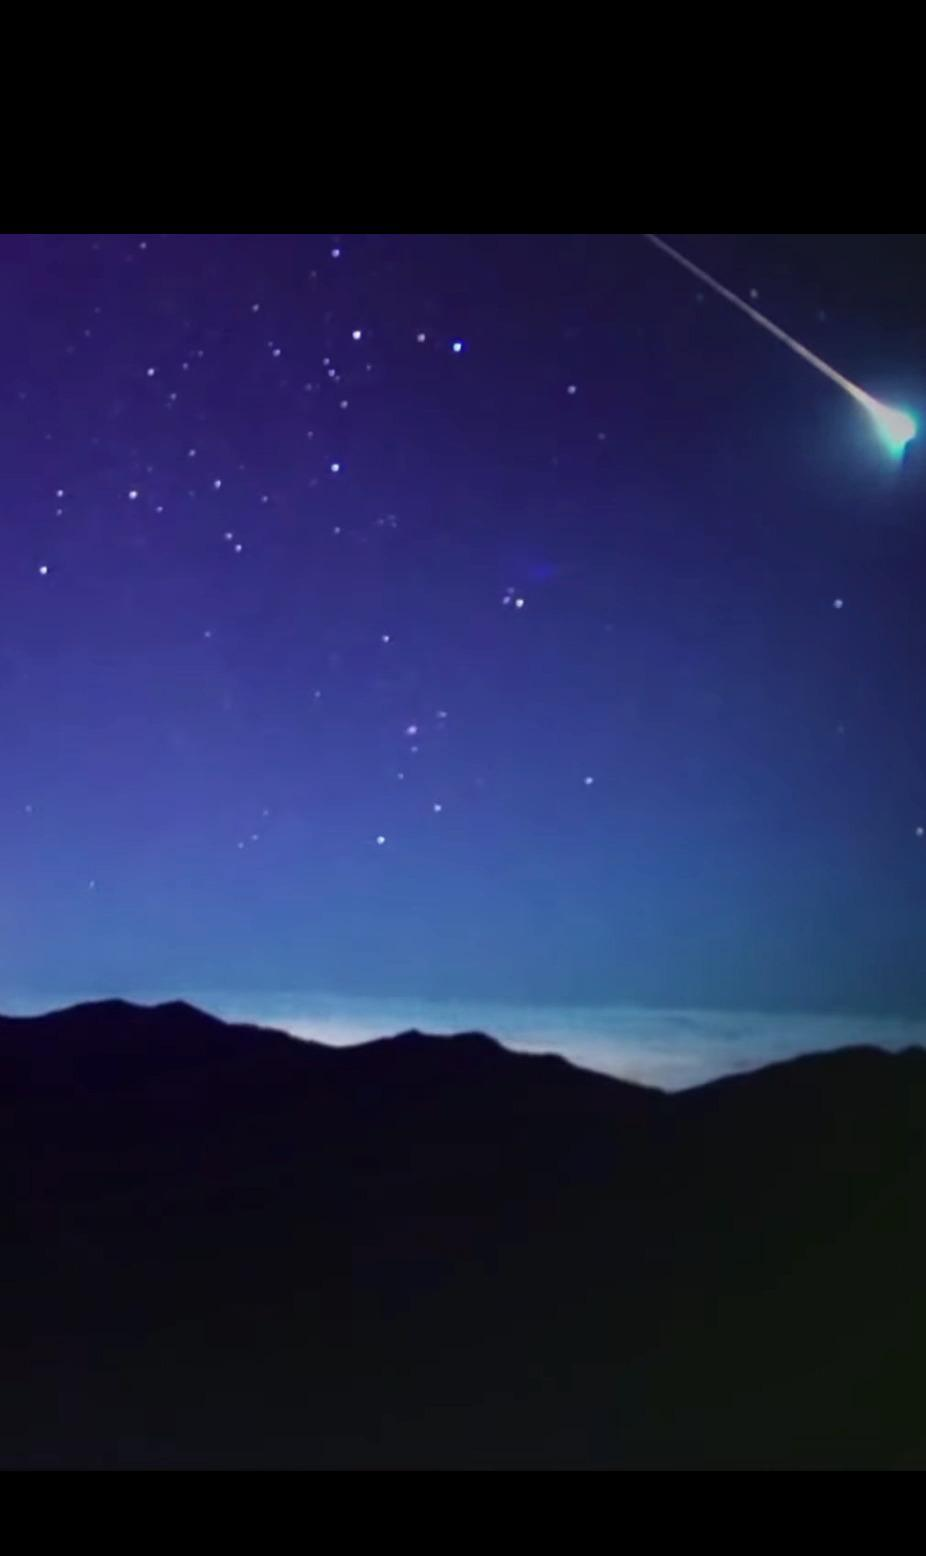meteorite: (664, 244, 926, 471)
